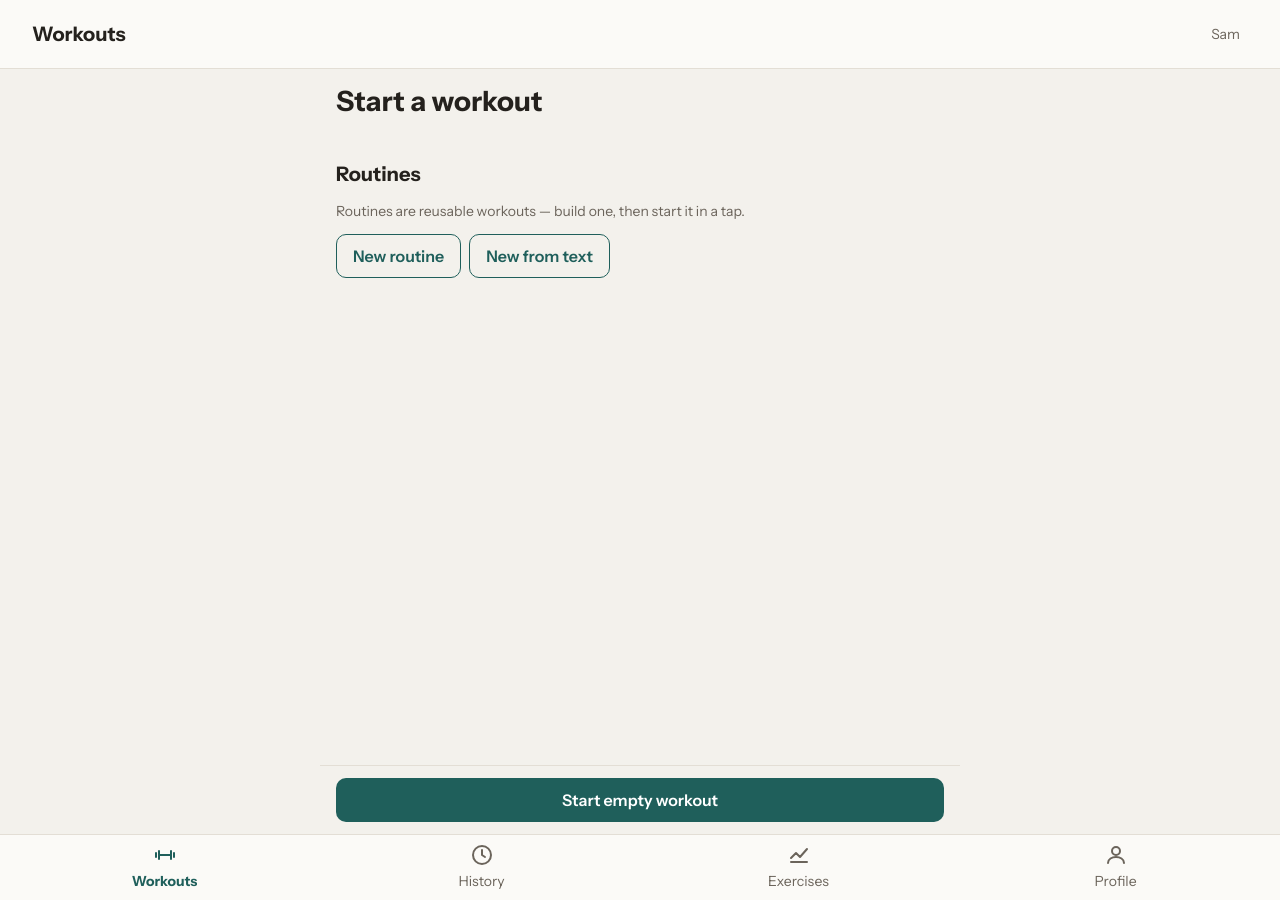
Test: AC16 — Start › 422 says the device clock looks wrong
The image size is (1280, 900).
Click the button "Start empty workout".
click(640, 800)  # box [336,778,944,822]
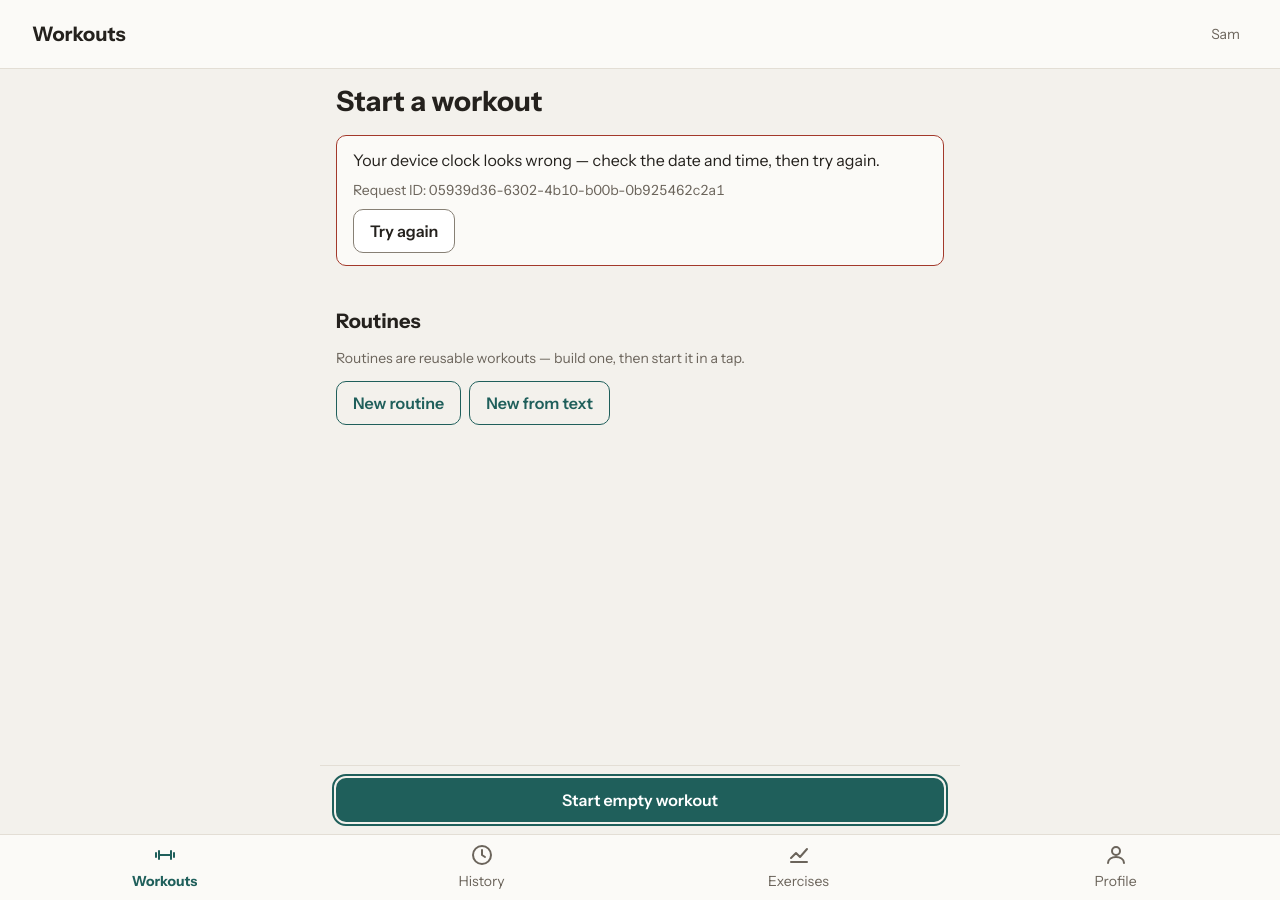
Check: the message shows "Your device clock looks wrong — check the date and time, then try again.", box [353,150,880,170]
